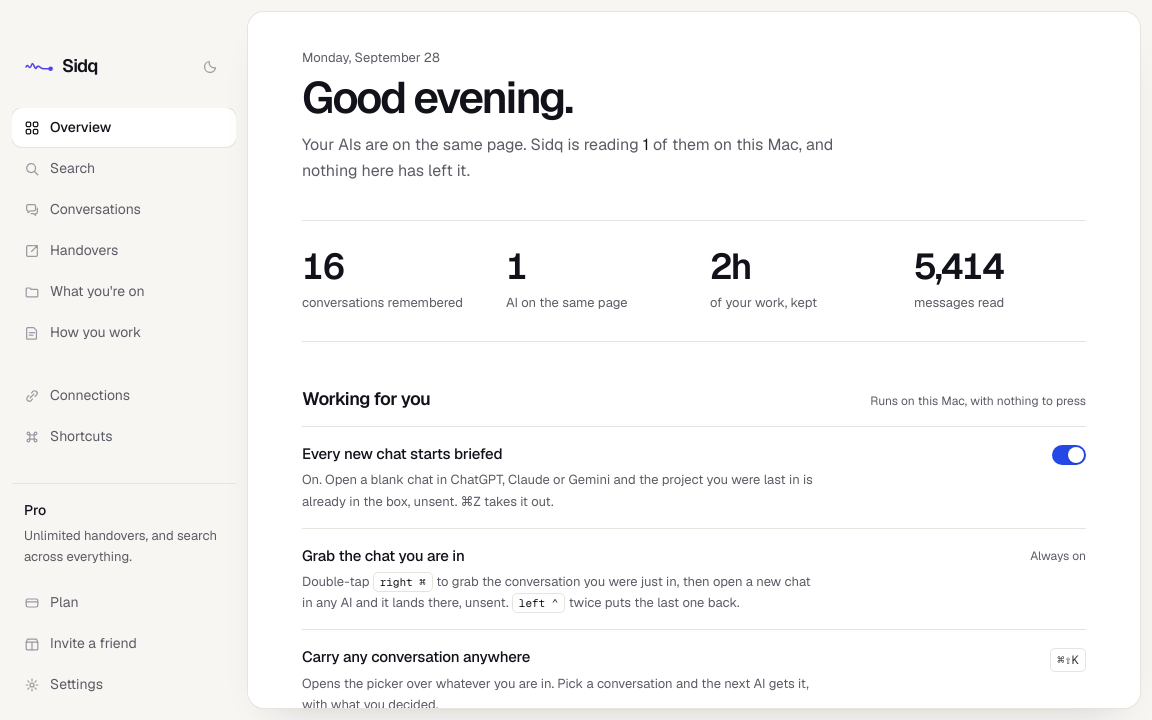
the plan panel › a paid account is not shown a button that cannot do anything
The width and height of the screenshot is (1152, 720).
Click the button "Plan". click: [124, 602]
box: [12,583,236,622]
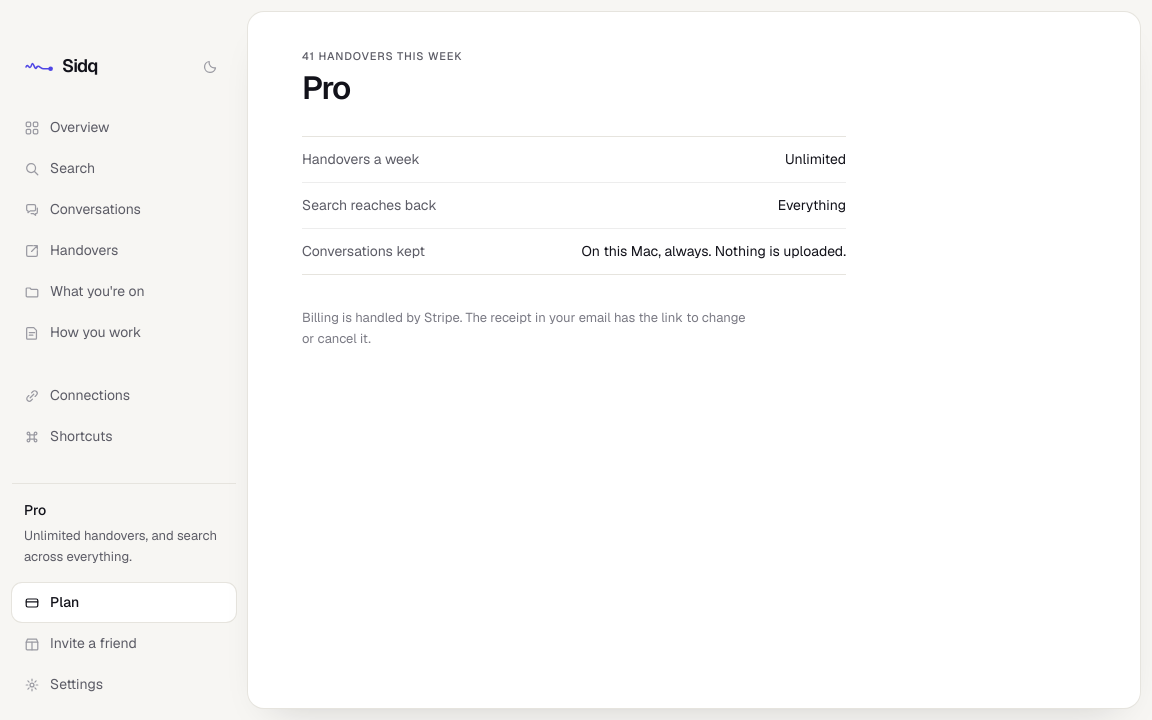
Result: the text "Unlimited" is shown at [785,149,846,170]
Result: the text "receipt in your email" is shown at [302,309,746,347]
